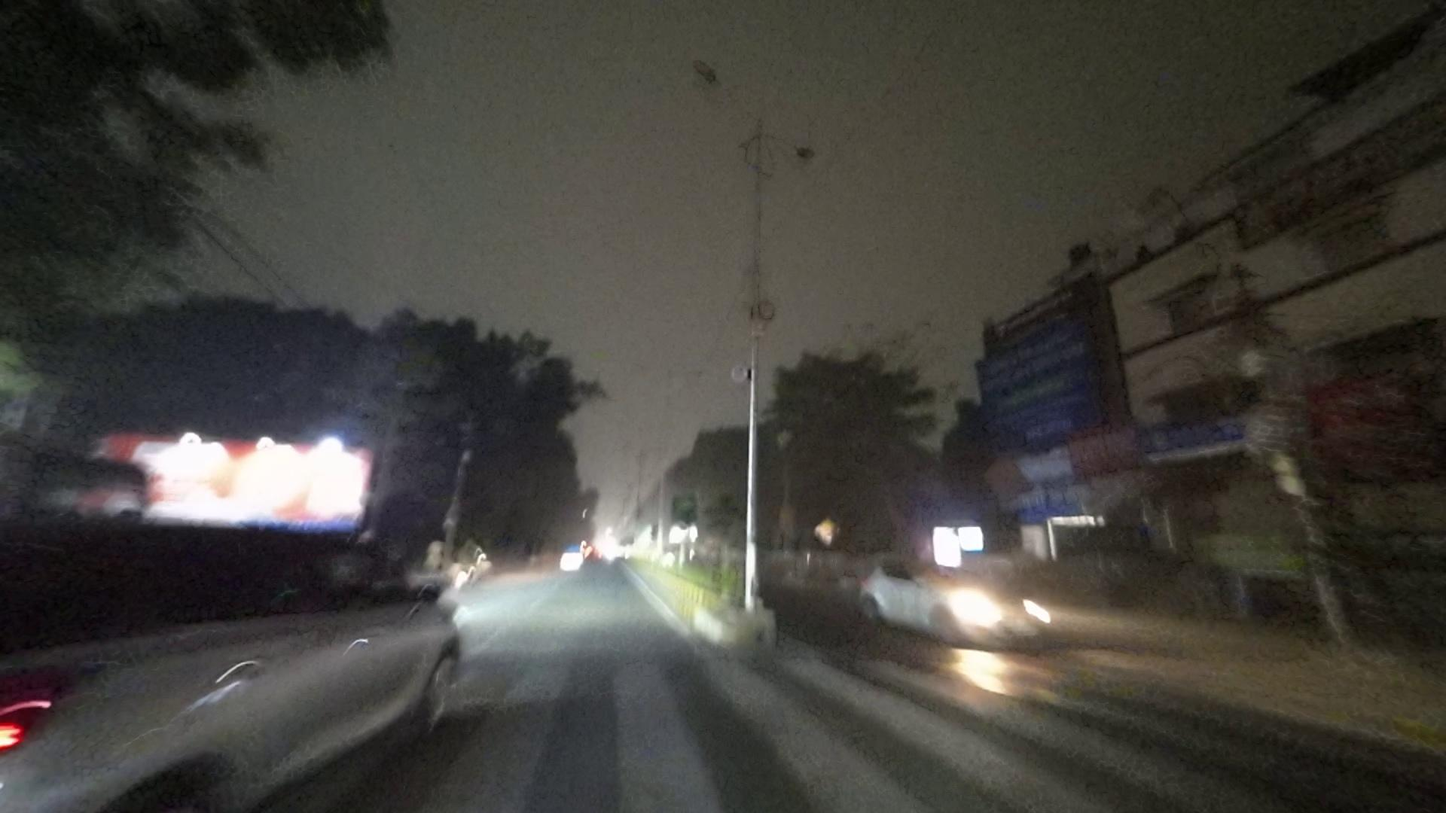streetlight: (686, 50, 755, 120), (774, 126, 826, 167)
